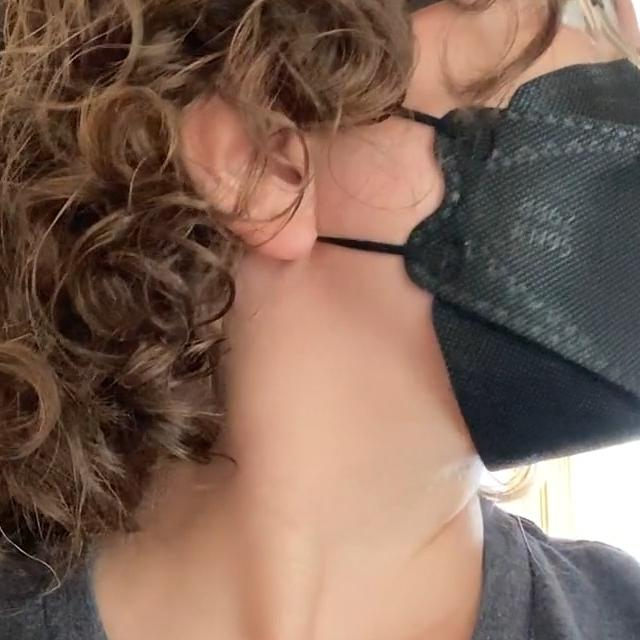Mask: (266, 74, 640, 465)
Person: (0, 0, 640, 640)
